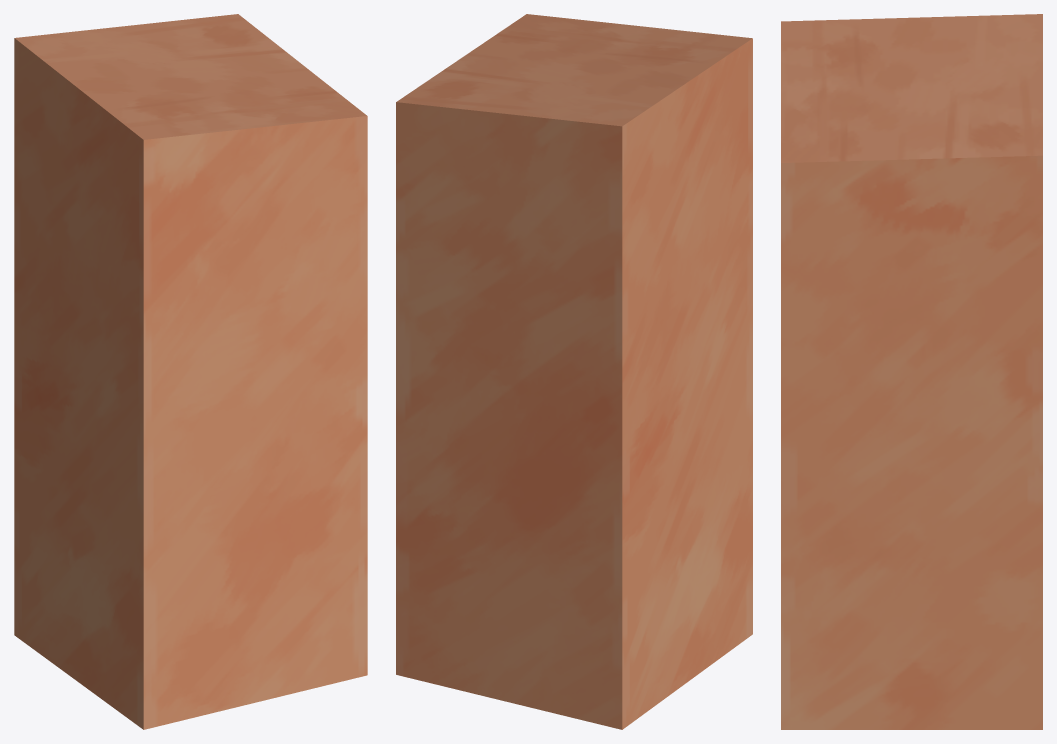
File: corner2_upper_s03.fbx
3 views of the same model, side by side, from view 1: azimuth 30°, elevation 25°; view 2: azimuth 150°, elevation 25°; view 3: azimuth 270°, elevation 25° (orthographic).
Parts seen in each view (by area): view 1: corner2_upper_s03; view 2: corner2_upper_s03; view 3: corner2_upper_s03.
Part boxes in pixels (left/top/right/bottom): corner2_upper_s03: left=14, top=14, right=367, bottom=729; corner2_upper_s03: left=396, top=14, right=752, bottom=729; corner2_upper_s03: left=781, top=14, right=1042, bottom=729.
Size of the model in its own units: 1.6 by 4.08 by 1.6.
